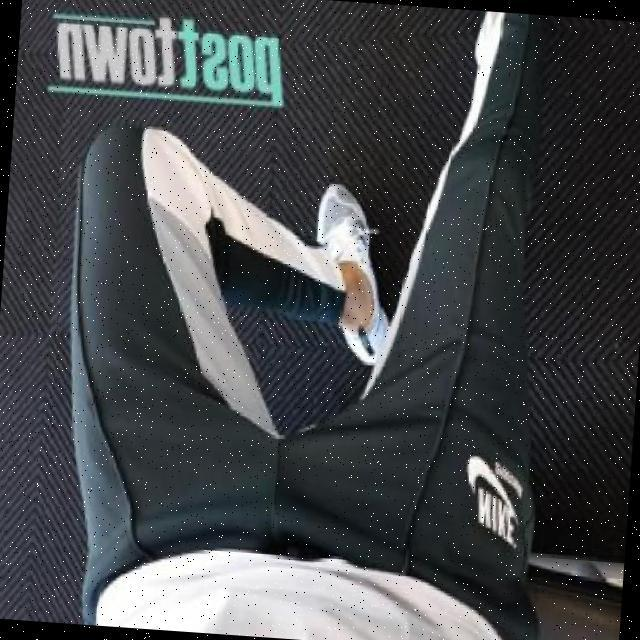Nike: (463, 451, 526, 543)
